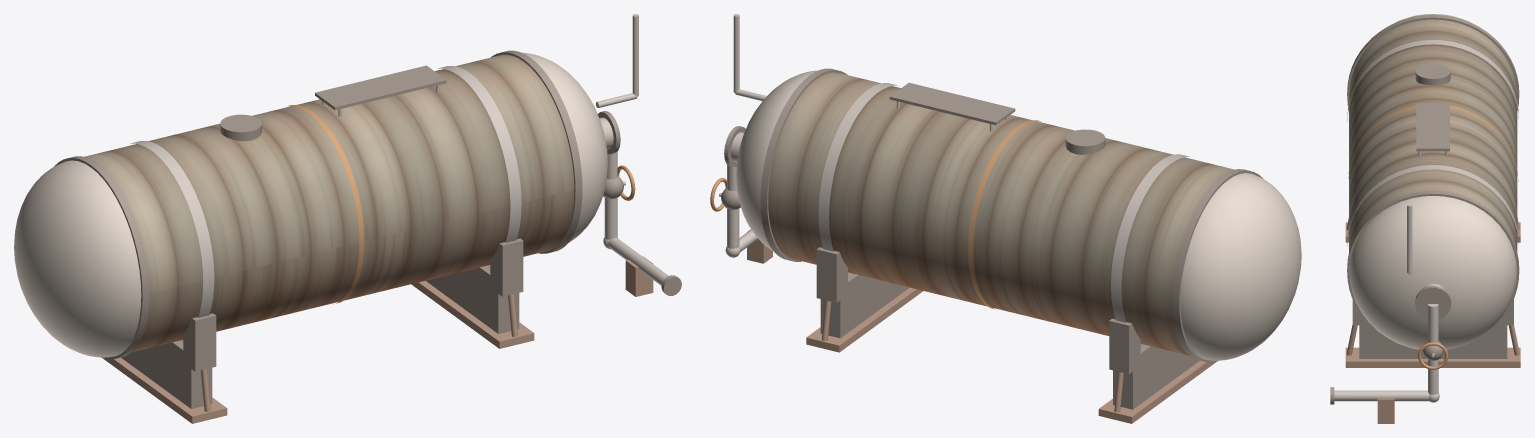
File: E09_horizontal_tank_8m.glb
3 renders of one model, left to right at view 1: azimuth 30°, elevation 25°; view 2: azimuth 150°, elevation 25°; view 3: azimuth 270°, elevation 25°, orthographic. The views are drawn at different scales.
Visible parts, largest first — view 1: tank, end_dome (×2), saddle (×2), strap (×2), end_ring (×2), base_plate (×2), saddle_horn (×2), top_walkway, accent_stripe, manhole, manifold, drop_pipe (+1 smaller); view 2: tank, end_dome (×2), saddle (×2), strap (×2), end_ring (×2), base_plate (×2), saddle_horn (×2), top_walkway, accent_stripe, manhole, drop_pipe; view 3: tank, end_dome, saddle, end_ring (×2), strap (×2), base_plate, top_walkway, manifold, flange, drop_pipe, manhole, pipe_support (+4 smaller).
Boxes of the visible parts, x1,y1,x2,y2 form: tank: (84,54,574,352); end_dome (×2): (14,52,607,357); saddle (×2): (121,265,519,408); strap (×2): (130,66,521,342); end_ring (×2): (54,50,582,359); base_plate (×2): (103,281,534,423); saddle_horn (×2): (183,238,523,371); top_walkway: (315,65,446,110); accent_stripe: (287,105,364,303); manhole: (220,114,261,141); manifold: (608,237,668,285); drop_pipe: (604,151,617,239); tank: (768,72,1234,355); end_dome (×2): (736,70,1301,360); saddle (×2): (820,272,1199,409); strap (×2): (818,83,1190,346); end_ring (×2): (760,68,1263,362); base_plate (×2): (806,287,1216,423); saddle_horn (×2): (816,247,1140,374); top_walkway: (889,82,1015,125); accent_stripe: (968,120,1040,309); manhole: (1065,129,1105,154); drop_pipe: (727,164,739,248); tank: (1349,19,1517,251); end_dome: (1349,196,1516,349); saddle: (1359,314,1507,358); end_ring (×2): (1347,14,1519,337); strap (×2): (1347,39,1518,246); base_plate: (1345,347,1520,367); top_walkway: (1416,103,1449,151); manifold: (1334,390,1429,401); flange: (1415,286,1451,319); drop_pipe: (1428,304,1438,394); manhole: (1415,64,1450,84); pipe_support: (1377,398,1394,423).
Bounding box in the file's own units: 8.52 × 3.6 × 2.83.
6 materials, 1 textured.
